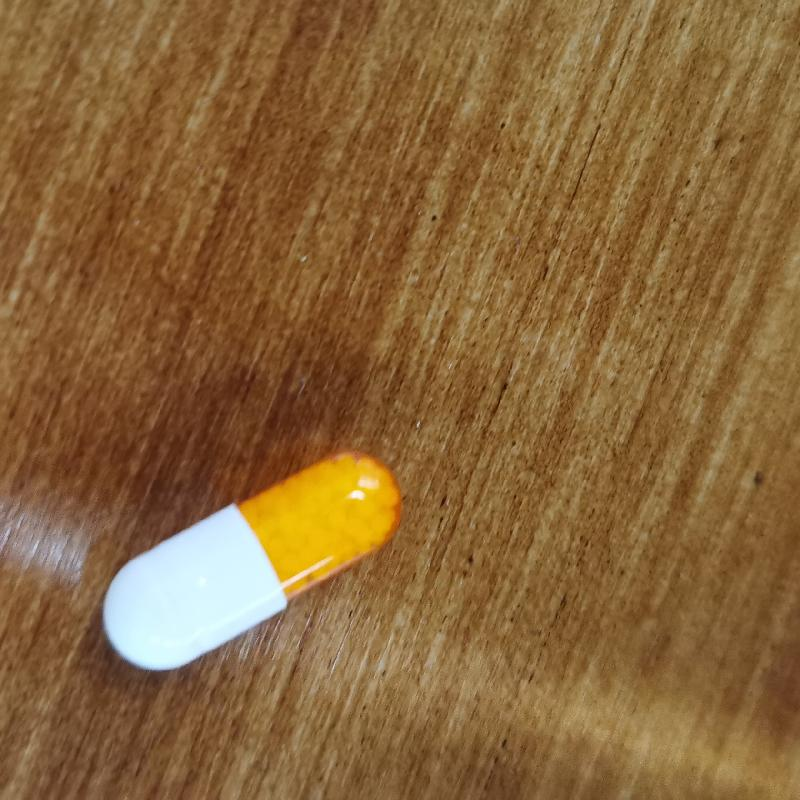pills: (88, 436, 419, 686)
